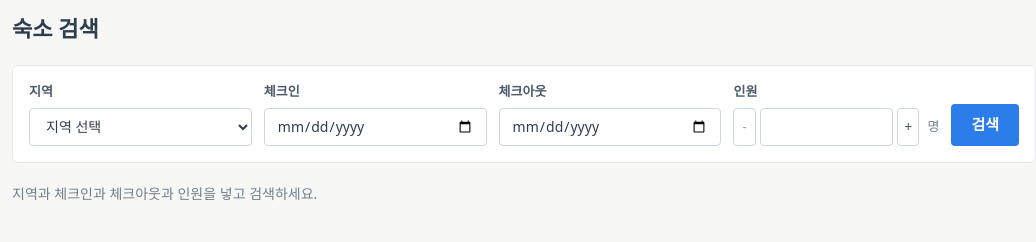
Test: G1 검색 › W08의 G1 몫. 체크아웃이 체크인보다 앞이면 필드 문구이고 URL도 요청도 없다
Select "서울 (SEOUL)" in the dropdown labelled "지역" at [140, 126], box [29,108,252,146]
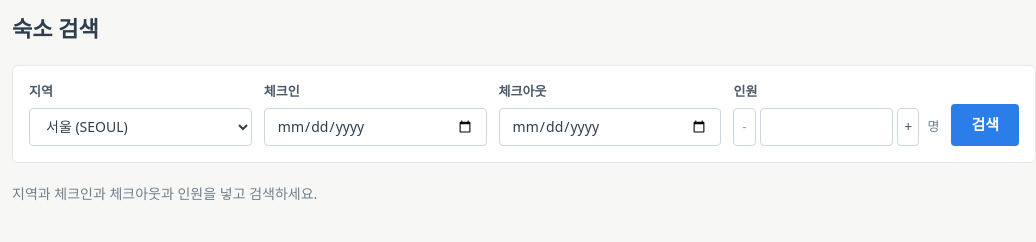
Type "2026-10-03" into the date field labelled "체크인" at [375, 126], box [264,108,487,146]
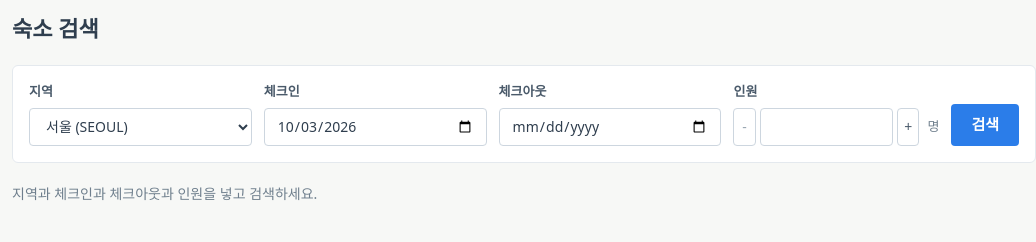
Type "2026-10-01" into the date field labelled "체크아웃" at [610, 126], box [499,108,721,146]
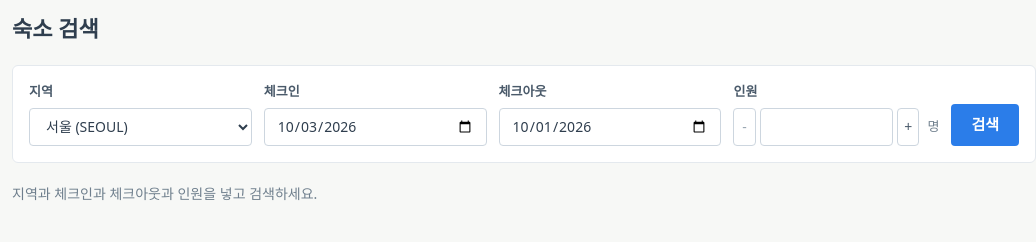
Click the button "검색" at [985, 124], box [951,104,1019,146]
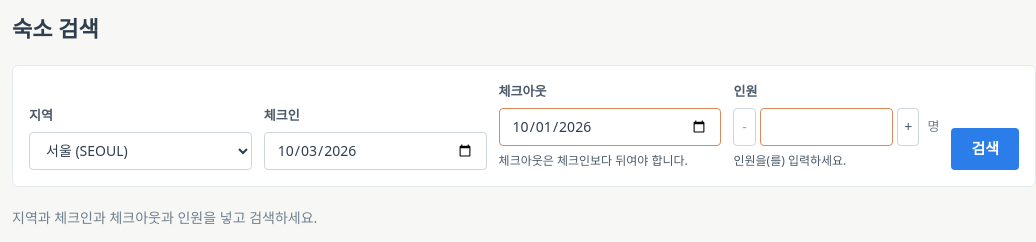
Now the text "체크아웃은 체크인보다 뒤여야 합니다." is shown, box [499,152,688,168]
